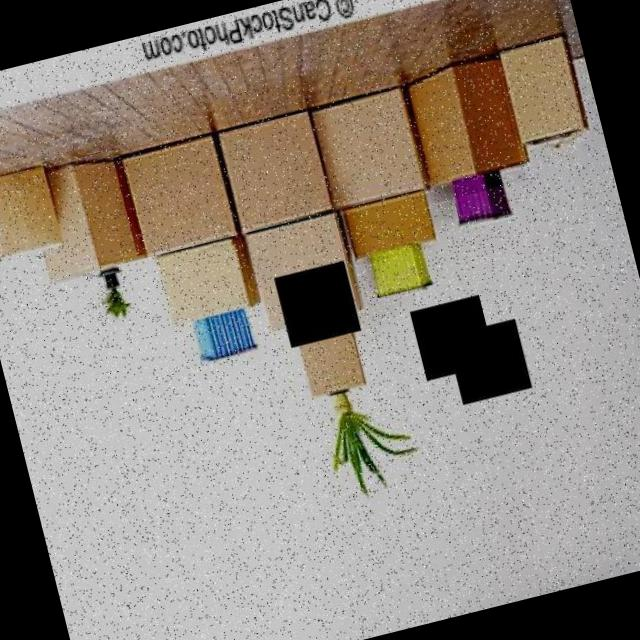box: (400, 50, 526, 204), (24, 148, 147, 288), (308, 80, 430, 209), (112, 132, 238, 256), (214, 108, 333, 230), (242, 216, 363, 330), (499, 36, 593, 158), (151, 244, 254, 328), (288, 312, 369, 403), (340, 194, 438, 266), (0, 151, 61, 258)
